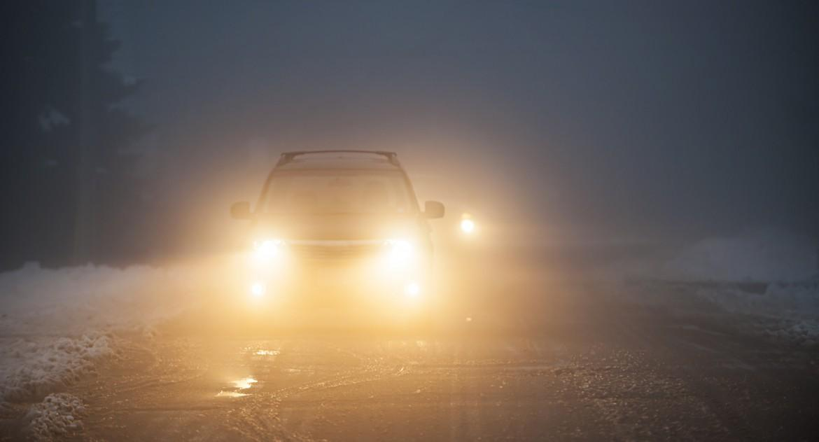car: (230, 147, 449, 334)
